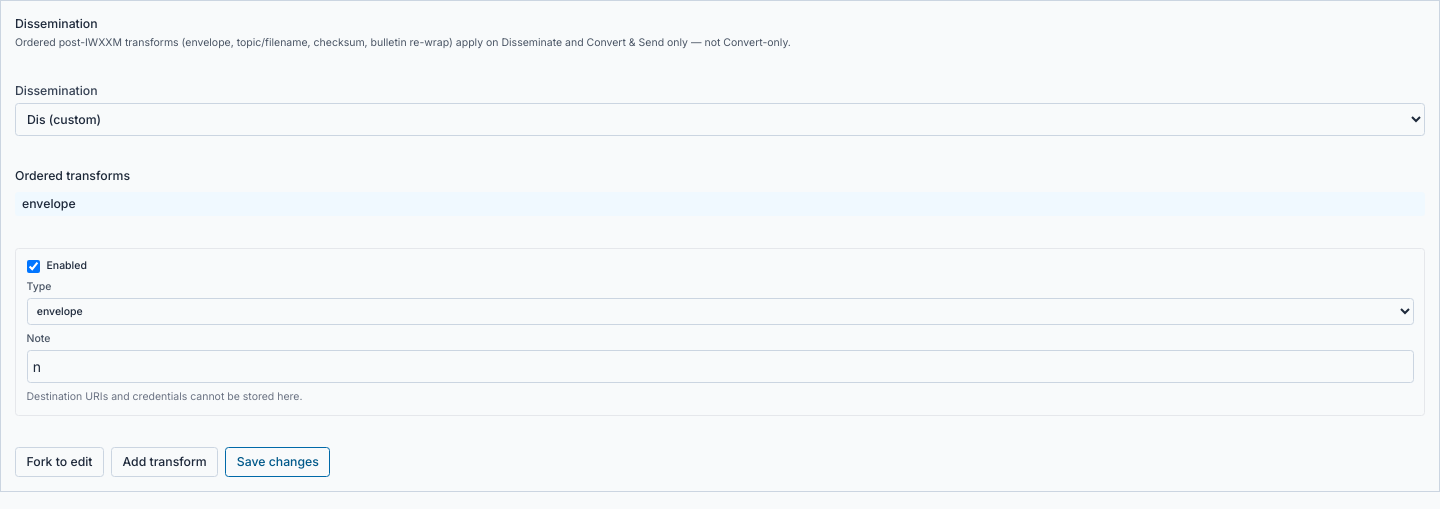
EVWB P1–P4 coverage fills › covers dissemination save failure path
Step 1. Click the button with test id "dissemination-rules-save" → x=278, y=462, box [225, 447, 330, 477]
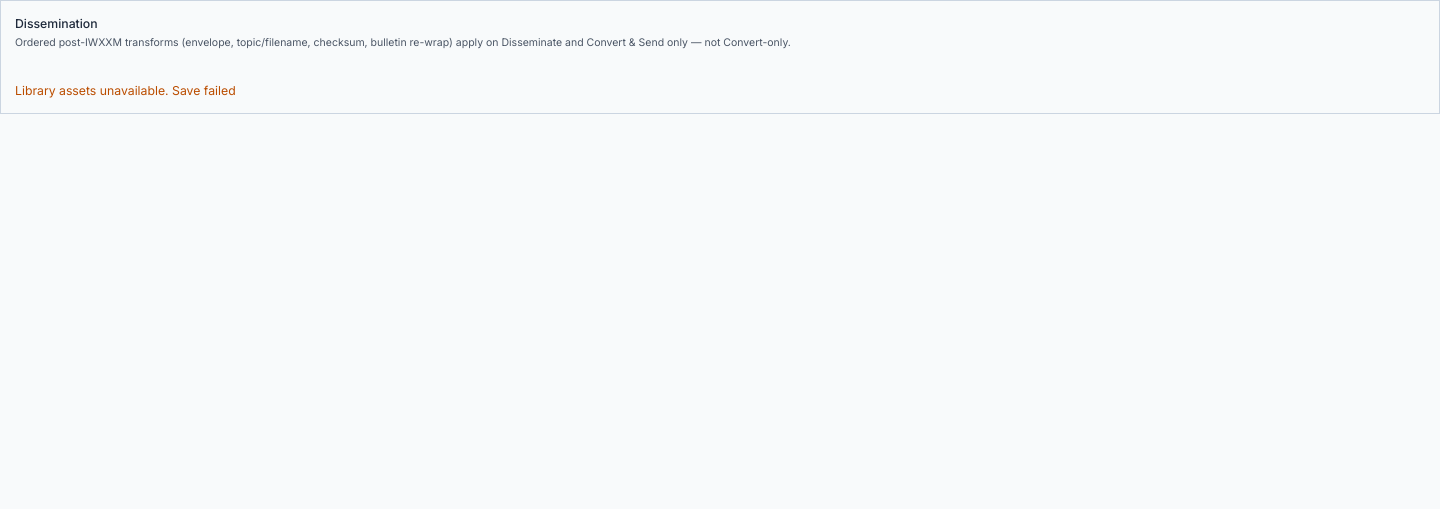
Result: the text with test id "dissemination-panel-error" shows "Save failed" at [172, 82, 236, 98]
